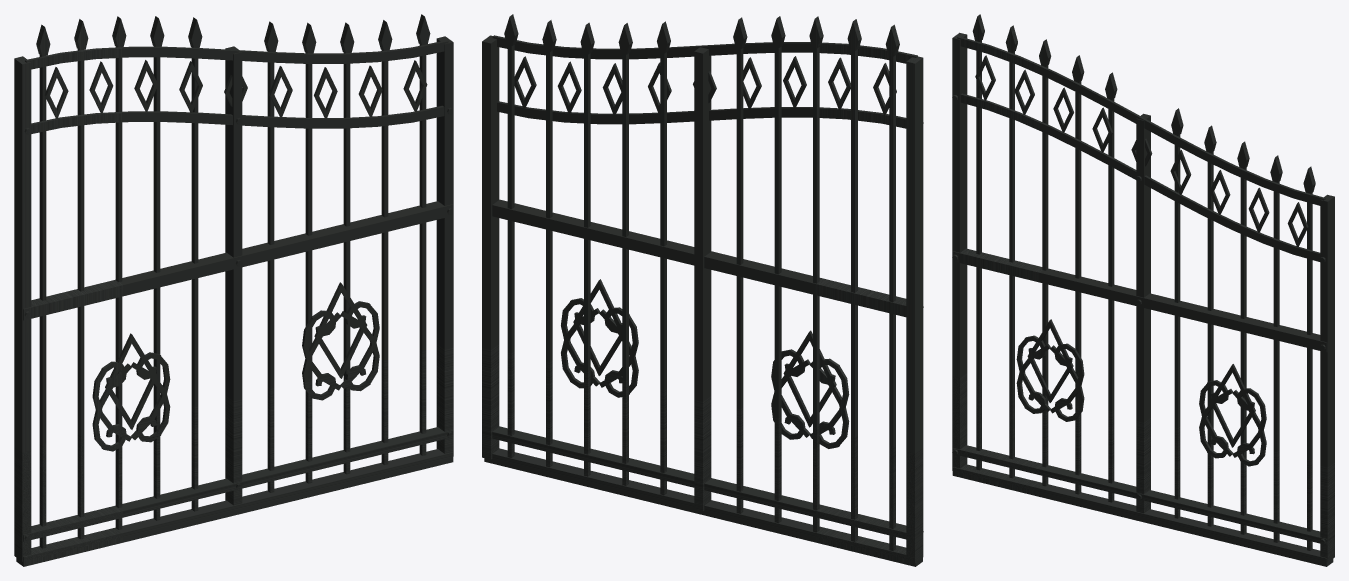
The model's file is nanhua-xincun-scrollwork-gate-far.glb.
The picture shows the model from 3 angles, left to right: view 1: azimuth 30°, elevation 25°; view 2: azimuth 150°, elevation 25°; view 3: azimuth 330°, elevation 25°; orthographic projection. The views are drawn at different scales.
Visible parts, largest first — view 1: 南华新邨长乐路774弄入口尖矛花铁门; view 2: 南华新邨长乐路774弄入口尖矛花铁门; view 3: 南华新邨长乐路774弄入口尖矛花铁门.
Part boxes in pixels (x1,y1,x2,y2): 南华新邨长乐路774弄入口尖矛花铁门: (14,14,453,566); 南华新邨长乐路774弄入口尖矛花铁门: (482,14,923,566); 南华新邨长乐路774弄入口尖矛花铁门: (952,14,1334,566).
Size of the model in its own units: 1.77 by 2.08 by 0.072.
Materials: 5 (5 with a texture image).
